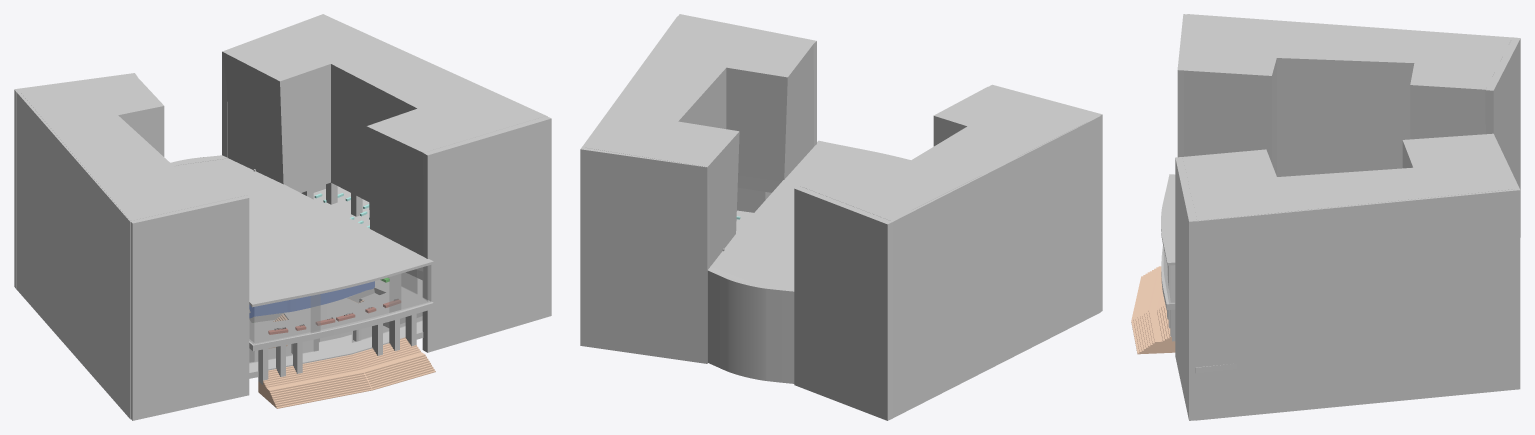
Rendered from researchcentermodelv3.glb.
The picture shows the model from 3 angles, left to right: view 1: azimuth 30°, elevation 25°; view 2: azimuth 150°, elevation 25°; view 3: azimuth 270°, elevation 25°; orthographic projection.
Parts seen in each view (by area): view 1: main.outside.building_l.main.outside.building_l.main.outsid. (×2), main.outside.building_r.main.outside.building_r.main.outsid., main.outside.building_r.main.outside.building_r.main.outsid, main.outside.building_l.main.outside.building_l.main.outsid, main.outside.top_ceiling, main.outside.main.outside.main.outside.main.outside.main.ou., main.4f.4f_base.main.4f.4f_base.main.4f.4f_base.main.4f.4f_b, main.1f.stairs_1f, main.1f.main.1f.1f_base, main.4f.4f_rooms.room_r0_4f, main.outside.building_l.main.outside.building_l.main.outside, main.outside.main.outside.main.outside.main.outside.main.ou (+1 smaller); view 2: main.outside.building_l.main.outside.building_l.main.outsid. (×2), main.outside.building_r.main.outside.building_r.main.outsid., main.outside.building_r.main.outside.building_r.main.outside, main.outside.building_l.main.outside.building_l.main.outside, main.outside.main.outside.main.outside.main.outside.main.out, main.outside.top_ceiling, main.outside.building_l.main.outside.building_l.main.outsid, main.outside.building_r.main.outside.building_r.main.outsid, main.elevators.elevator_r.main.elevators.elevator_r.elevato; view 3: main.outside.building_r.main.outside.building_r.main.outsid. (×2), main.outside.building_l.main.outside.building_l.main.outsid. (×2), main.outside.building_r.main.outside.building_r.main.outsid, main.outside.building_l.main.outside.building_l.main.outside, main.1f.stairs_1f, main.outside.building_r.main.outside.building_r.main.outside, main.outside.top_ceiling, main.outside.building_l.main.outside.building_l.main.outsid, main.4f.4f_base.main.4f.4f_base.main.4f.4f_base.main.4f.4f_b, main.outside.main.outside.main.outside.main.outside.main.ou..
Part boxes in pixels (box(x1,y1,x2,y2)): main.outside.building_l.main.outside.building_l.main.outsid. (×2): box(17, 76, 250, 419); main.outside.building_r.main.outside.building_r.main.outsid.: box(222, 16, 545, 271); main.outside.building_r.main.outside.building_r.main.outsid: box(422, 116, 551, 352); main.outside.building_l.main.outside.building_l.main.outsid: box(130, 195, 249, 420); main.outside.top_ceiling: box(174, 158, 433, 307); main.outside.main.outside.main.outside.main.outside.main.ou.: box(249, 265, 430, 344); main.4f.4f_base.main.4f.4f_base.main.4f.4f_base.main.4f.4f_b: box(249, 186, 433, 351); main.1f.stairs_1f: box(258, 337, 435, 408); main.1f.main.1f.1f_base: box(249, 316, 423, 378); main.4f.4f_rooms.room_r0_4f: box(249, 281, 374, 318); main.outside.building_l.main.outside.building_l.main.outside: box(14, 73, 137, 289); main.outside.main.outside.main.outside.main.outside.main.ou: box(249, 312, 422, 362); main.outside.building_l.main.outside.building_l.main.outsid. (×2): box(800, 86, 1100, 417); main.outside.building_r.main.outside.building_r.main.outsid.: box(585, 17, 813, 266); main.outside.building_r.main.outside.building_r.main.outside: box(580, 146, 709, 363); main.outside.building_l.main.outside.building_l.main.outside: box(794, 186, 893, 420); main.outside.main.outside.main.outside.main.outside.main.out: box(707, 266, 794, 383); main.outside.top_ceiling: box(711, 140, 910, 287); main.outside.building_l.main.outside.building_l.main.outsid: box(989, 84, 1102, 311); main.outside.building_r.main.outside.building_r.main.outsid: box(677, 14, 816, 146); main.elevators.elevator_r.main.elevators.elevator_r.elevato: box(737, 187, 771, 212); main.outside.building_r.main.outside.building_r.main.outsid. (×2): box(1182, 133, 1514, 420); main.outside.building_l.main.outside.building_l.main.outsid. (×2): box(1184, 14, 1512, 176); main.outside.building_r.main.outside.building_r.main.outsid: box(1175, 157, 1196, 420); main.outside.building_l.main.outside.building_l.main.outside: box(1485, 37, 1520, 237); main.1f.stairs_1f: box(1131, 266, 1175, 354); main.outside.building_r.main.outside.building_r.main.outside: box(1493, 134, 1520, 389); main.outside.top_ceiling: box(1161, 174, 1175, 265); main.outside.building_l.main.outside.building_l.main.outsid: box(1177, 14, 1189, 157); main.4f.4f_base.main.4f.4f_base.main.4f.4f_base.main.4f.4f_b: box(1161, 245, 1237, 373); main.outside.main.outside.main.outside.main.outside.main.ou.: box(1164, 251, 1174, 303).
Bounding box in the file's own units: 116 × 52.8 × 92.15.
